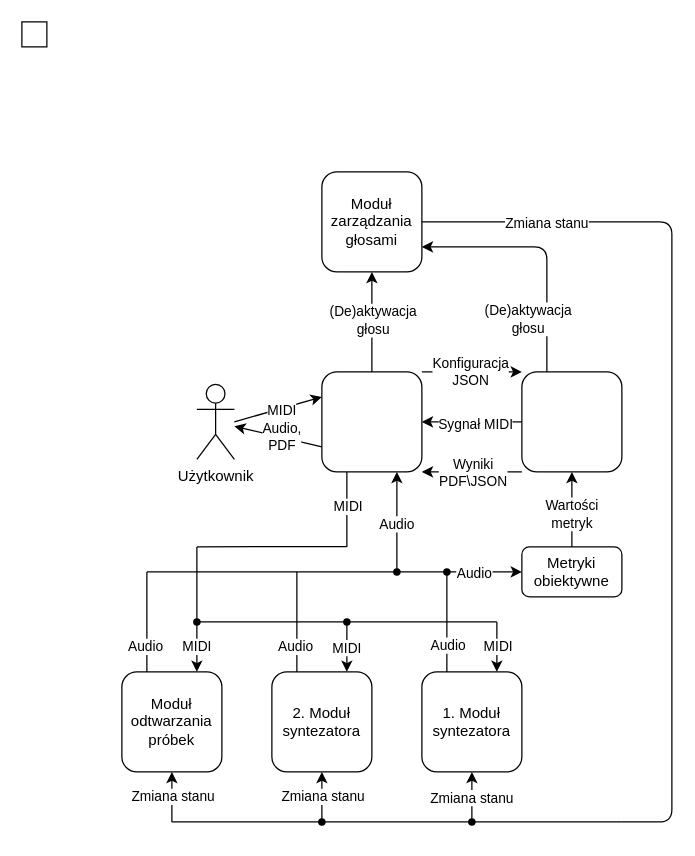
The diagram is 695 pixels wide and 856 high, and some of its shapes have lost their labels. Each missing label, with the centre of its shape:
"Moduł główny" goes at point 371,421.
"Moduł testowy" goes at point 571,421.
